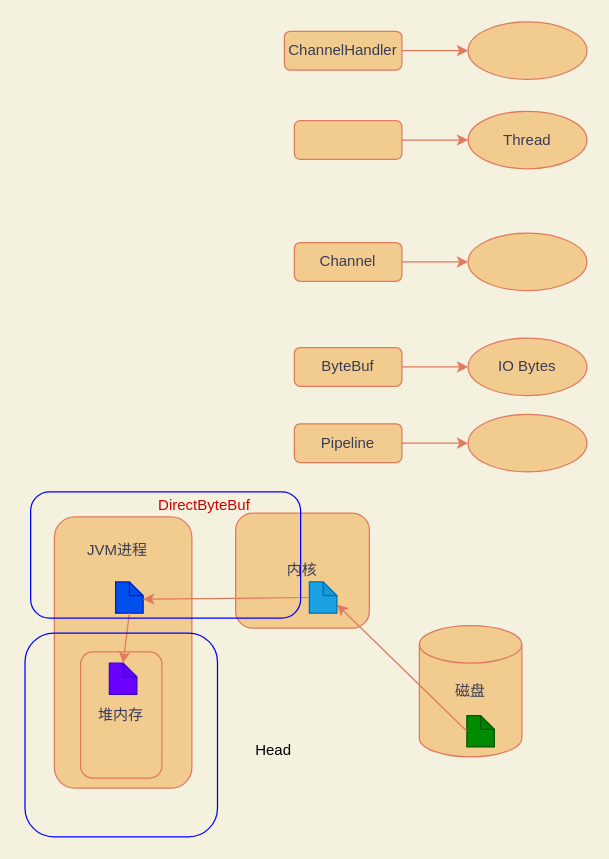
Some shapes in this 609 by 859 pixel diagram are drawn without their labels. Each missing label, with the box of its shape:
HeapByteBuf: (24, 632, 218, 837)
Logic: (467, 21, 587, 79)
Logic Chain: (467, 413, 587, 472)
NioEventLoop: (293, 119, 402, 159)
Socket: (467, 232, 587, 291)
